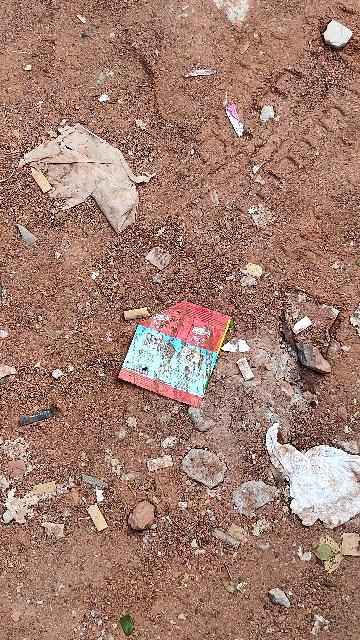packet: (116, 293, 249, 416)
